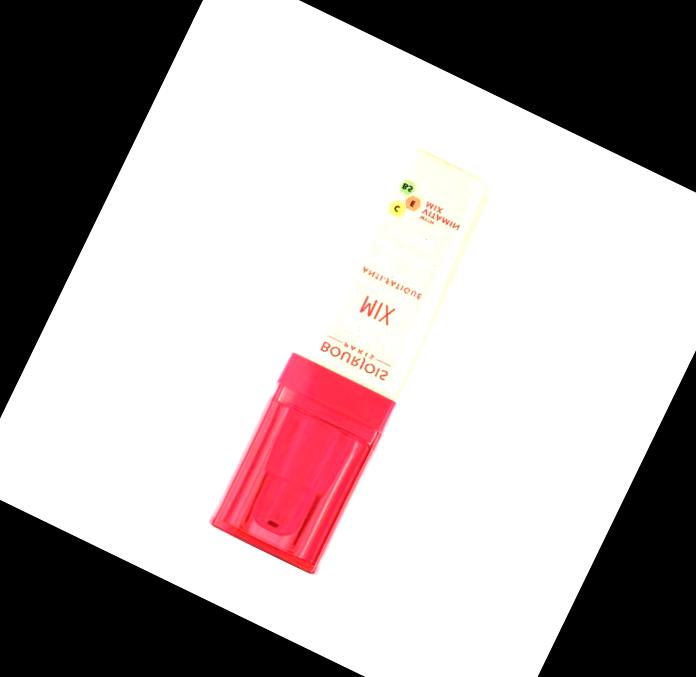cosmetic: (202, 106, 521, 578)
